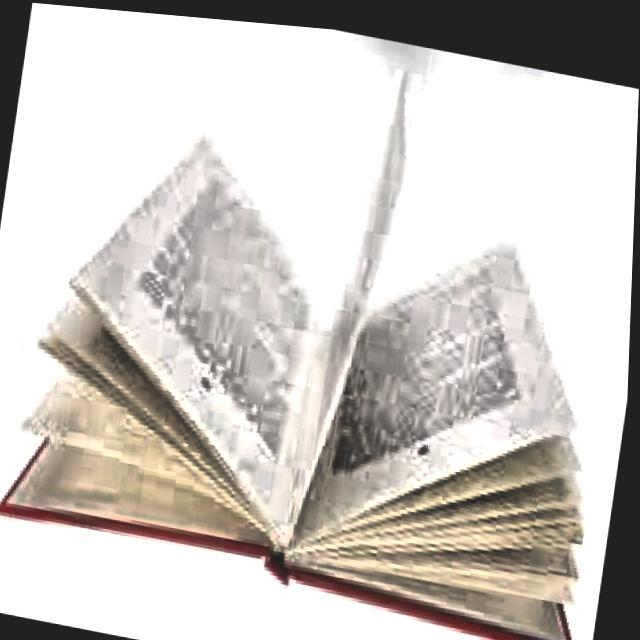Paper: (0, 2, 640, 640), (43, 104, 339, 536), (288, 192, 604, 583), (283, 50, 414, 555)
